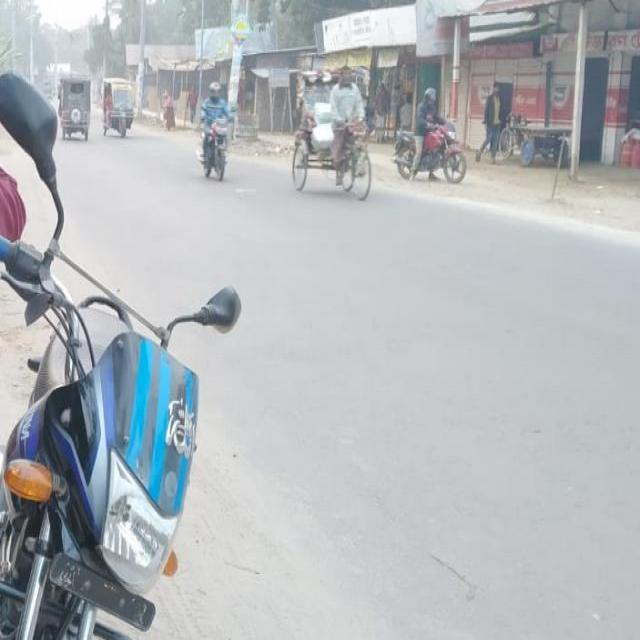bike: (3, 70, 243, 638), (397, 121, 466, 179), (198, 81, 231, 180)
vehicle: (292, 69, 373, 201), (59, 74, 92, 139), (101, 79, 134, 134)
